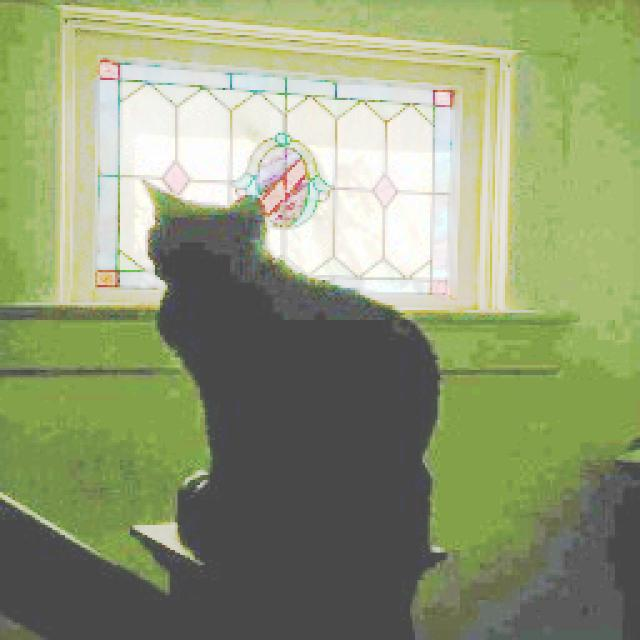cat: (131, 147, 455, 602)
